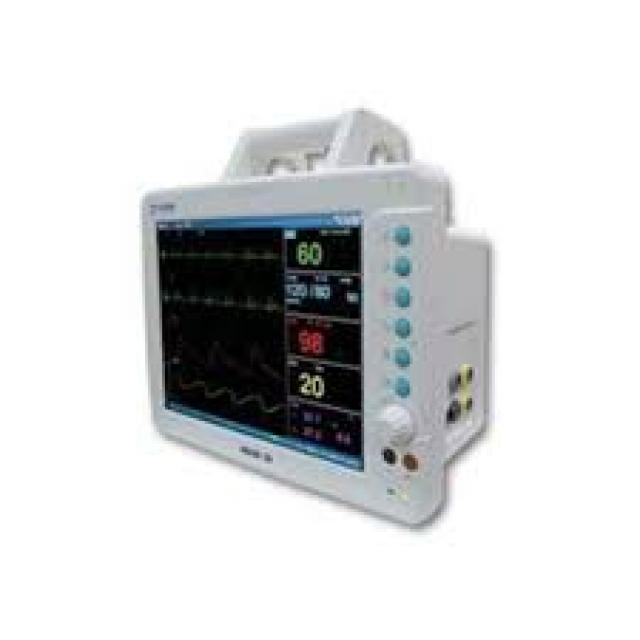cardiac_monitor: (147, 191, 461, 534)
